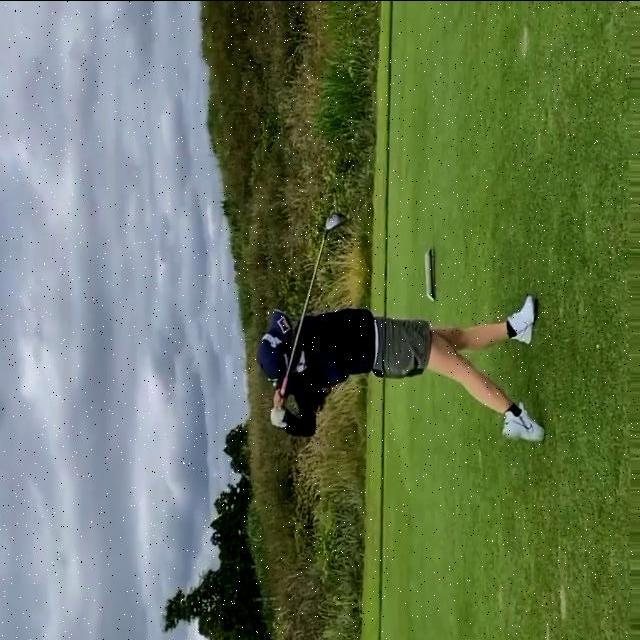golf club-handle: (276, 209, 351, 403)
golf club-head: (325, 210, 347, 230)
